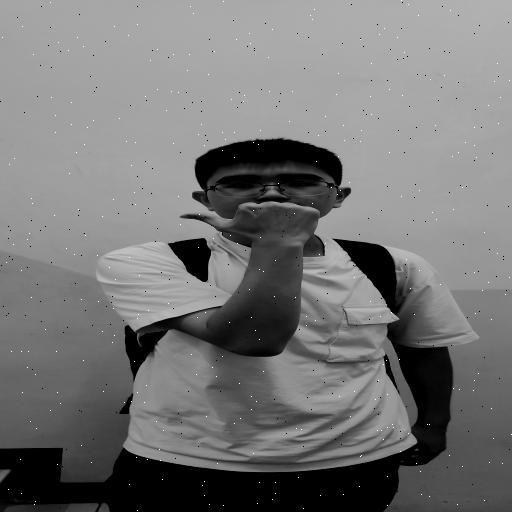back: (167, 195, 356, 251)
